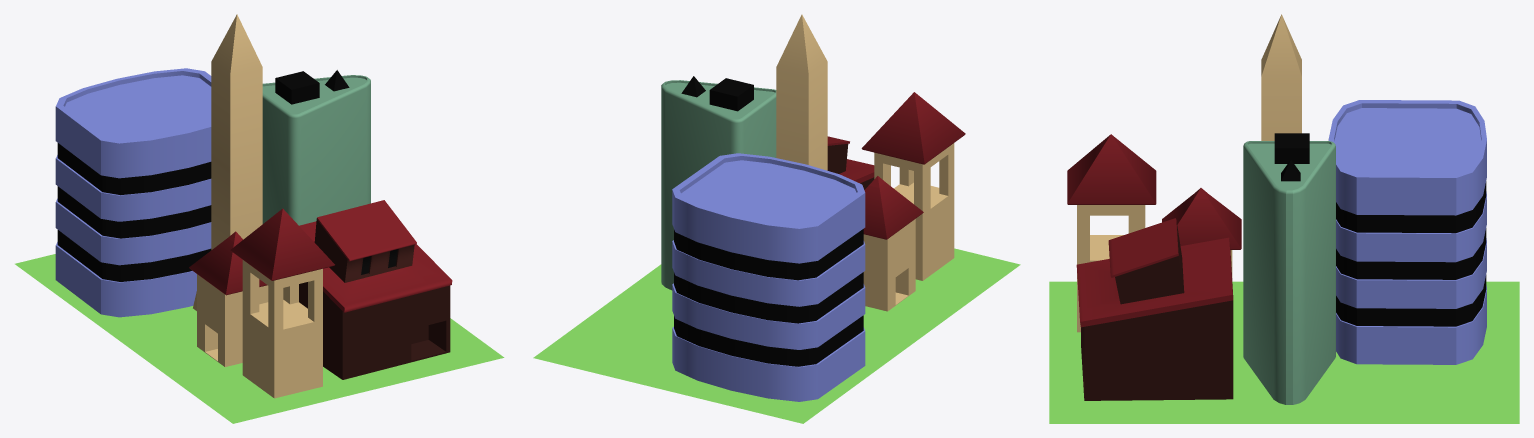
File: cidade 1.fbx
3 renders of one model, left to right at view 1: azimuth 30°, elevation 25°; view 2: azimuth 150°, elevation 25°; view 3: azimuth 270°, elevation 25°, orthographic. The views are drawn at different scales.
Visible parts, largest first — view 1: Plane; view 2: Plane; view 3: Plane.
Part boxes in pixels (box(x1,y1,x2,y2)): Plane: box(15, 14, 504, 423); Plane: box(533, 14, 1020, 423); Plane: box(1049, 14, 1519, 423).
Size of the model in its own units: 1113 by 1189 by 1552.
